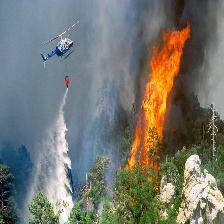fire: (121, 23, 191, 183)
smoke: (88, 1, 144, 147), (170, 1, 213, 149)
